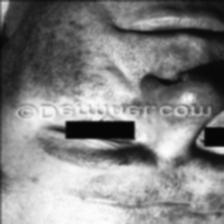Non-Cancerous Skin Condition: (0, 18, 88, 104), (74, 177, 224, 224)
